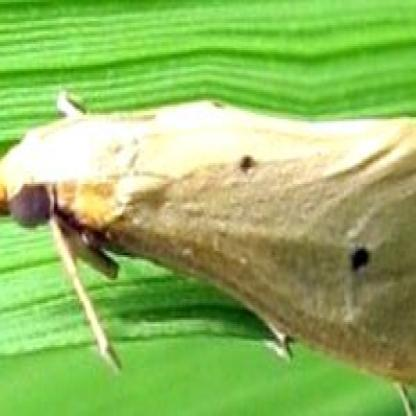stem-borer: (0, 84, 416, 416)
